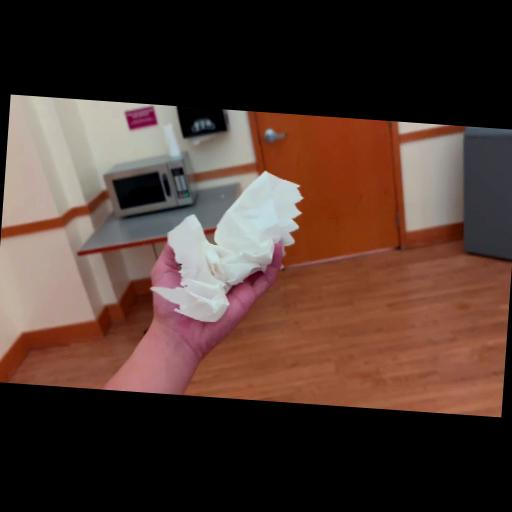napkin: (150, 164, 304, 338)
